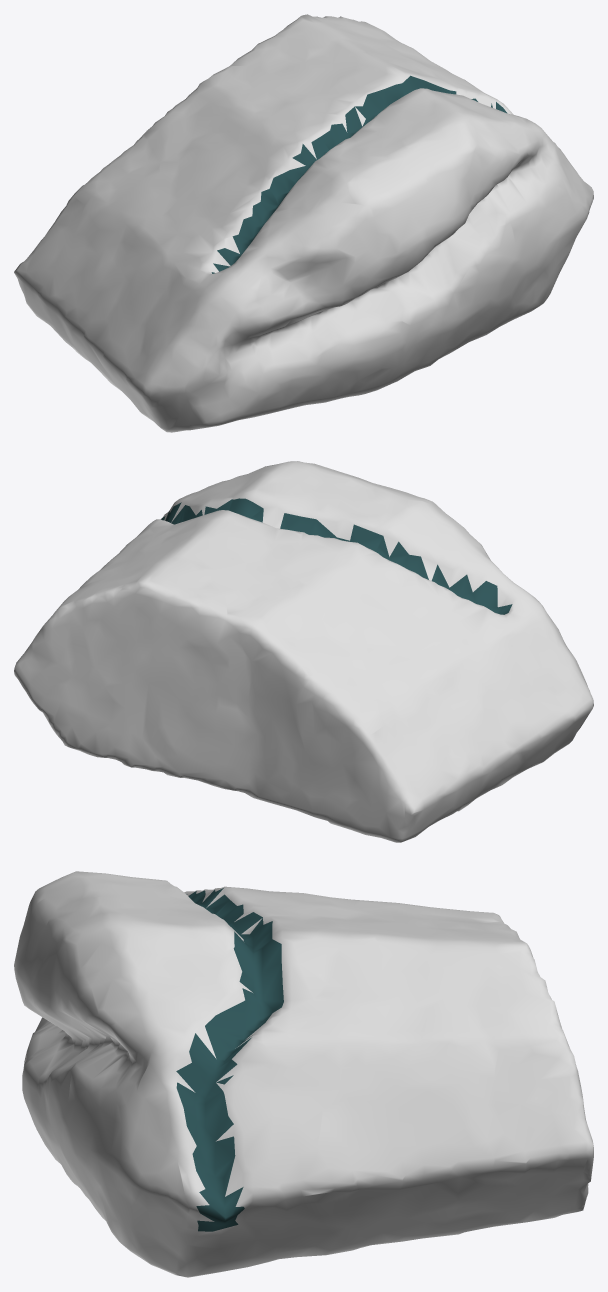
File: res_rock_fissure_host_a_lod0.glb
3 renders of one model, top to bottom at view 1: azimuth 30°, elevation 25°; view 2: azimuth 150°, elevation 25°; view 3: azimuth 270°, elevation 25°, orthographic. The views are drawn at different scales.
Parts seen in each view (by area): view 1: H01 · raised fissure host.001; view 2: H01 · raised fissure host.001; view 3: H01 · raised fissure host.001.
Boxes of the visible parts, x1,y1,x2,y2 form: H01 · raised fissure host.001: [14, 14, 593, 432]; H01 · raised fissure host.001: [14, 461, 593, 842]; H01 · raised fissure host.001: [14, 871, 593, 1277].
Size of the model in its own units: 2.5 by 1.19 by 2.
